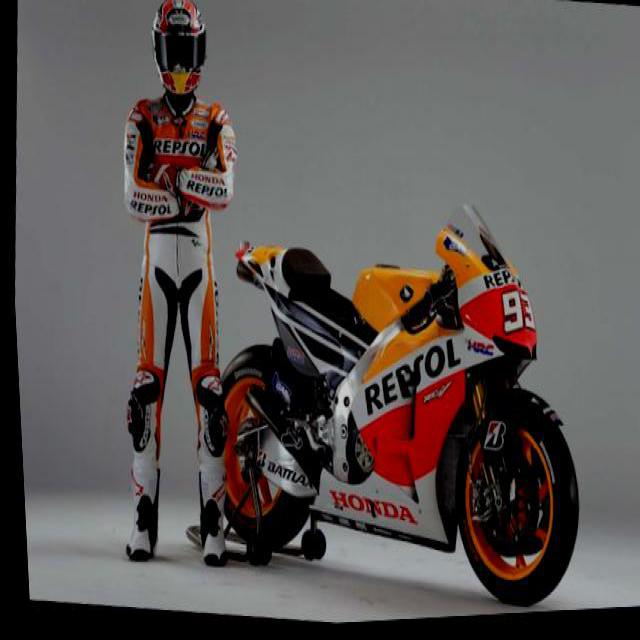HRC RCV 213: (194, 168, 596, 631)
